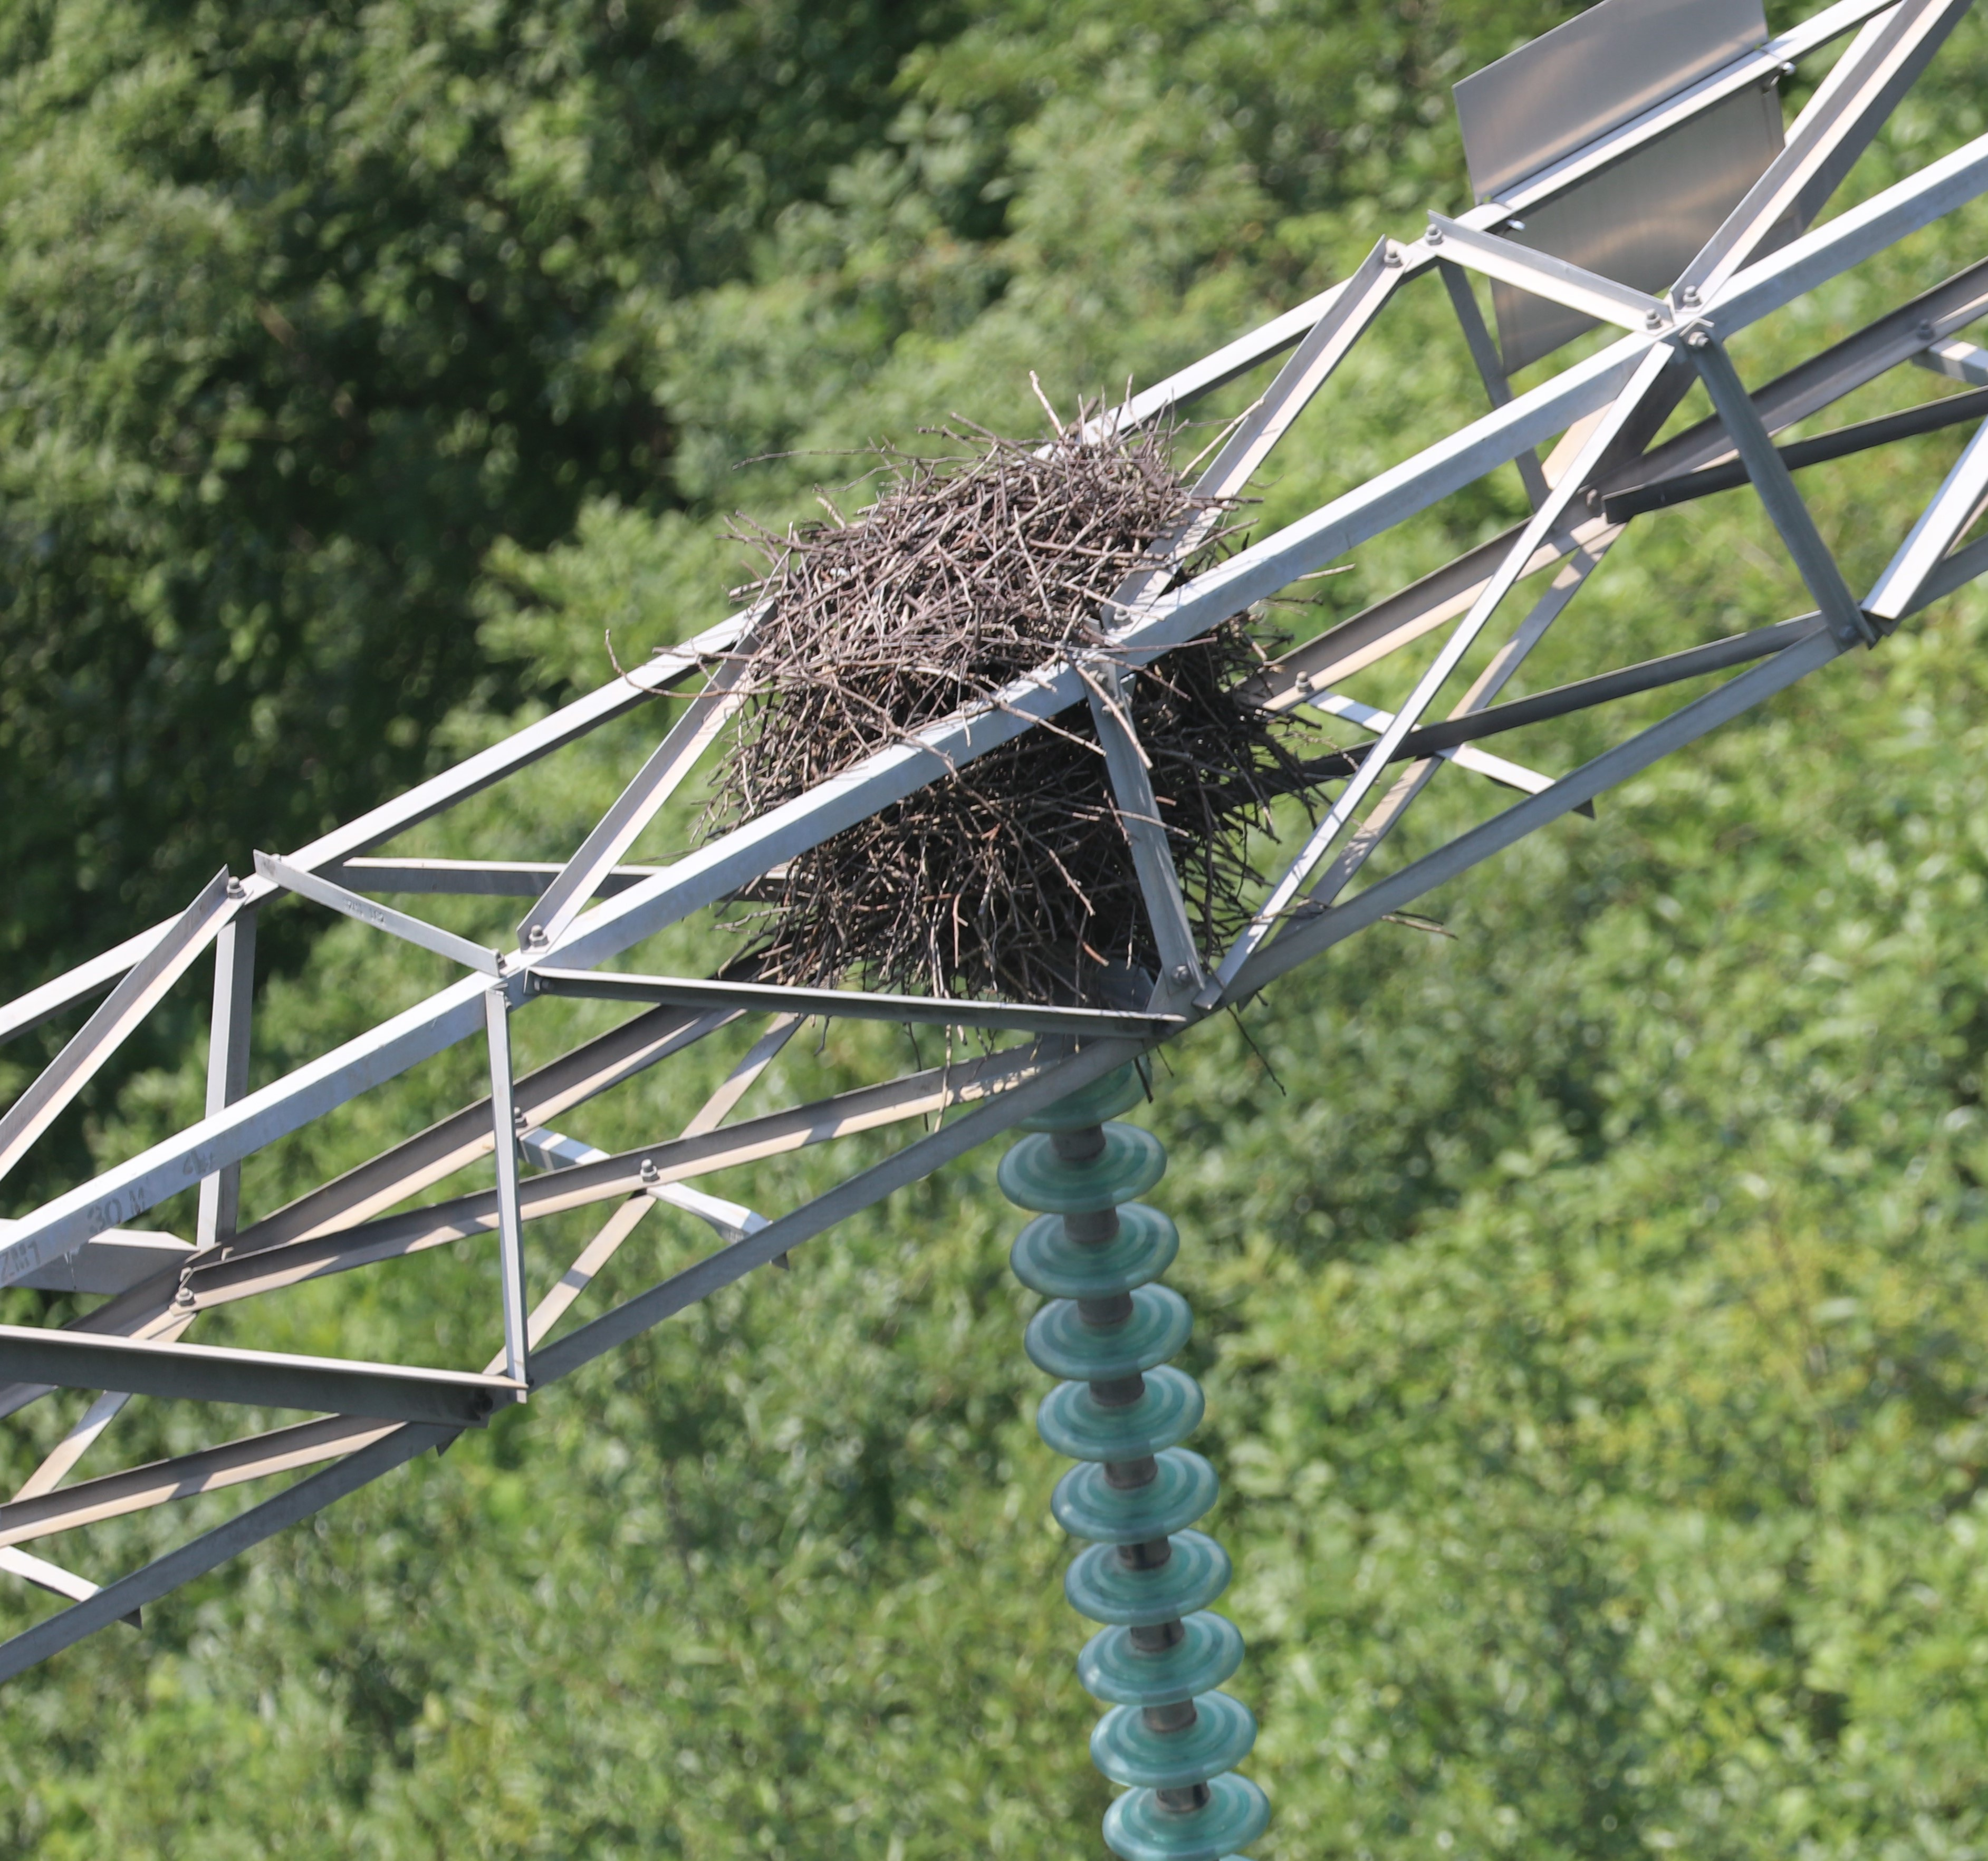niaowo: (632, 420, 1403, 1074)
